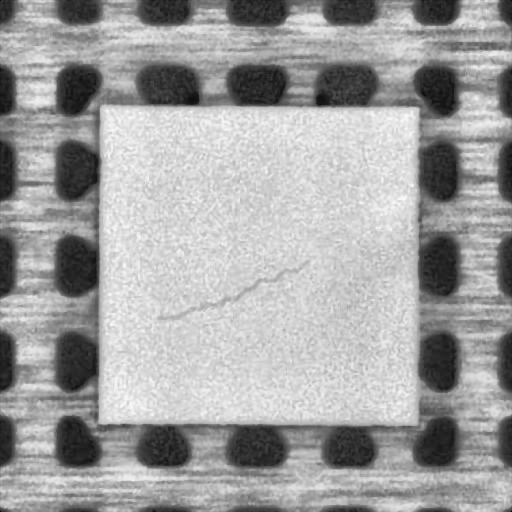DIE_CRACK: (156, 258, 309, 320)
